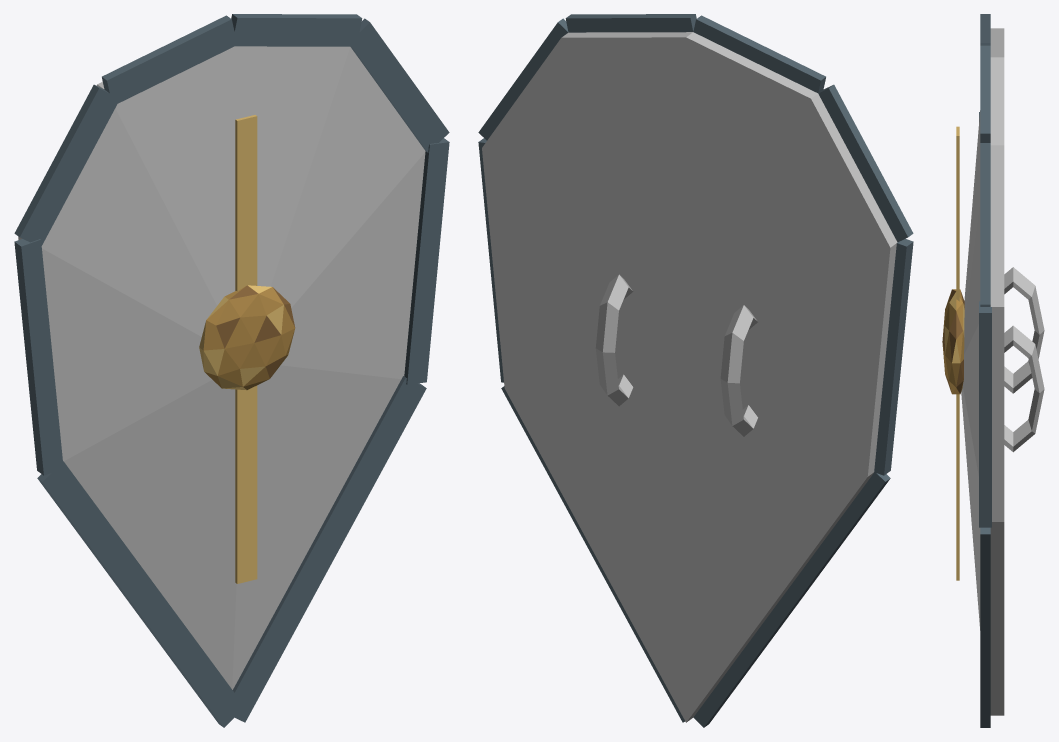
Rendered from kite.glb.
3 renders of one model, left to right at view 1: azimuth 30°, elevation 25°; view 2: azimuth 150°, elevation 25°; view 3: azimuth 270°, elevation 25°, orthographic. The views are drawn at different scales.
Visible parts, largest first — view 1: gth_equi_kite_shield; view 2: gth_equi_kite_shield; view 3: gth_equi_kite_shield.
Boxes of the visible parts, <box> form: gth_equi_kite_shield: <box>14,14,449,727</box>; gth_equi_kite_shield: <box>478,14,913,727</box>; gth_equi_kite_shield: <box>942,14,1044,727</box>.
Bounding box in the file's own units: 0.7 × 1.1 × 0.15.
